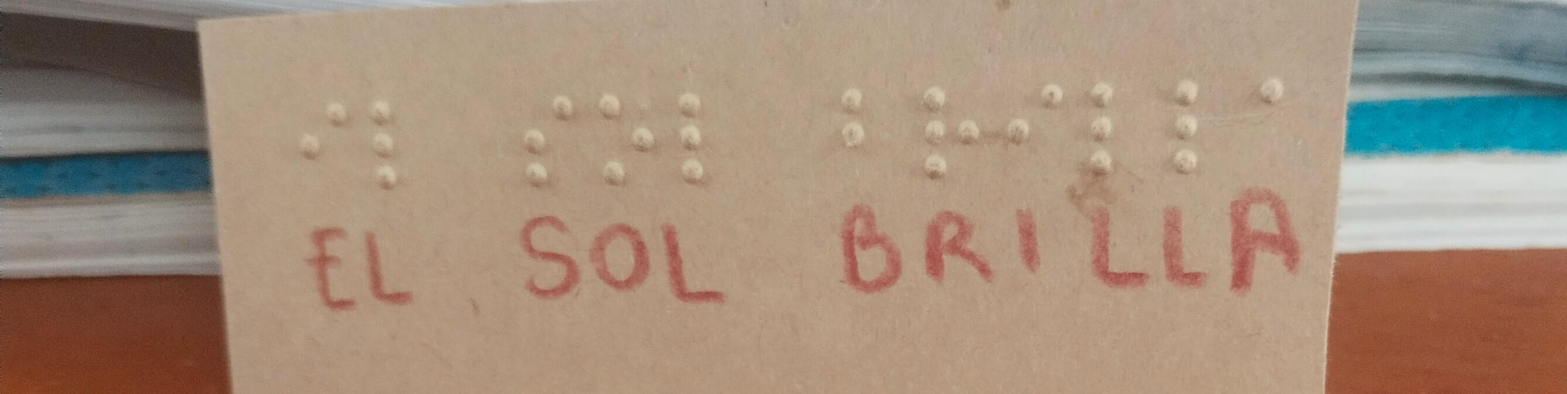a: (1224, 66, 1306, 125)
b: (820, 70, 894, 173)
e: (287, 92, 355, 179)
i: (994, 72, 1070, 166)
l: (658, 78, 720, 195), (1154, 76, 1214, 183), (359, 88, 412, 199), (1081, 76, 1130, 193)
o: (591, 84, 660, 195)
r: (902, 72, 990, 187)
s: (494, 82, 584, 203)
